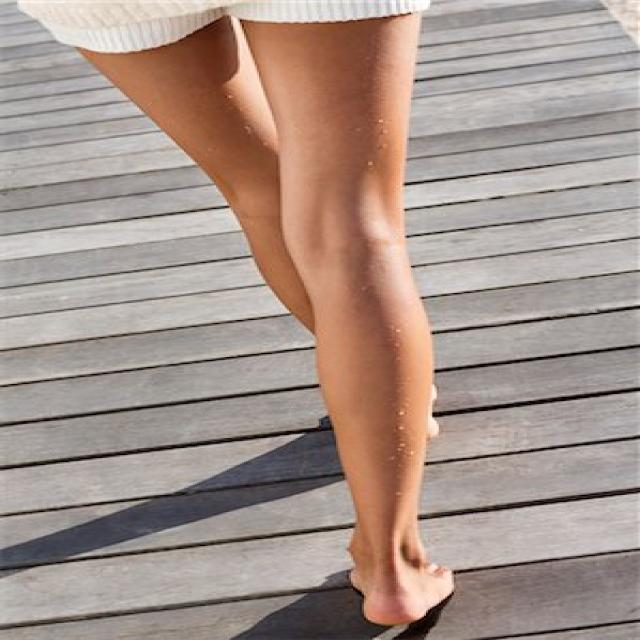Normal: (219, 222, 571, 510)
